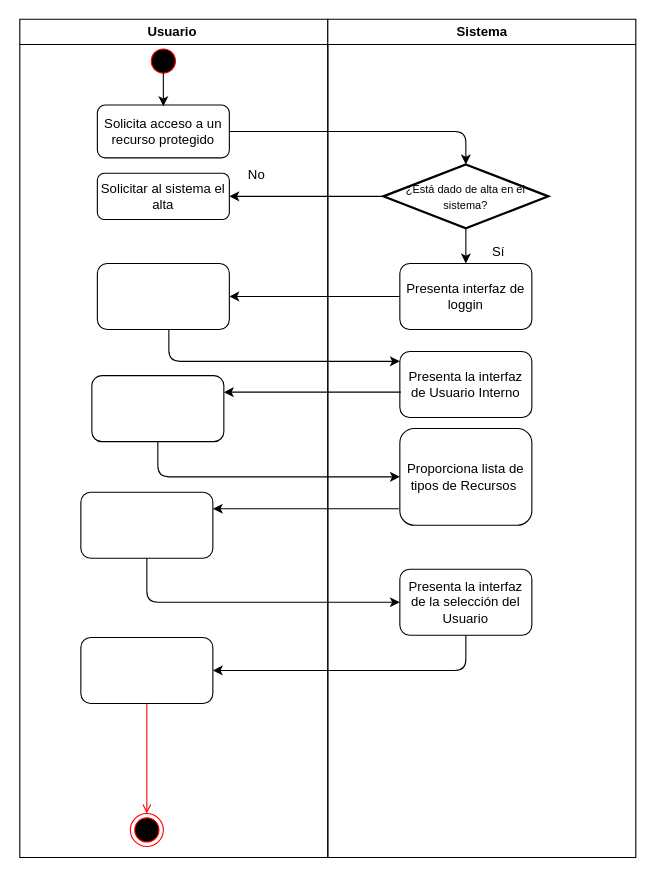
Some shapes in this 655 by 877 pixel diagram are drawn without their labels. Here are the shapes that lost their labels. From the top down, the centre of each, then its label:
(162,295): Ingresa credenciales(CU12.- Autenticar Usuario)
(157,408): Selecciona opción "Dar de alta recurso"
(146,524): El usuario selecciona el tipo de recurso a dar de alta
(146,669): Ingresa datos de acuerdo al tipo de recurso a dar de alta
